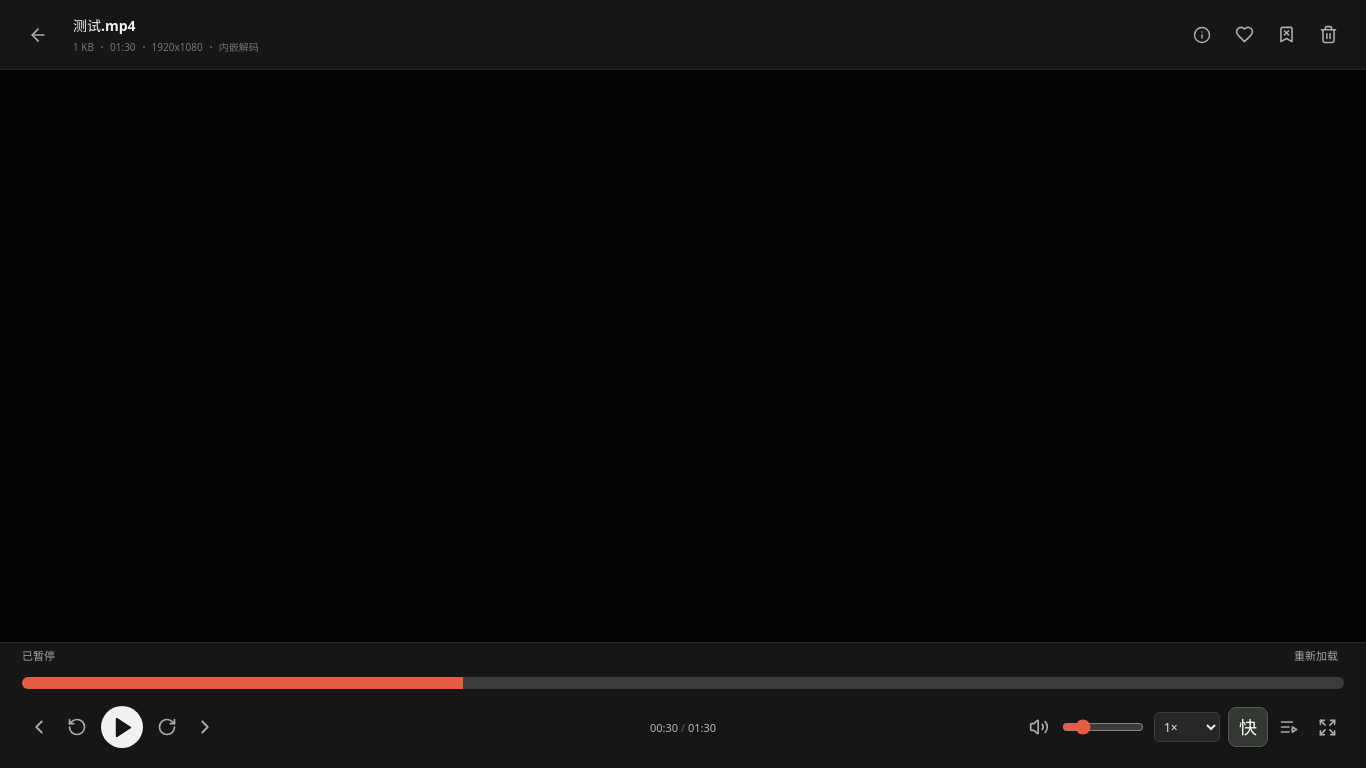
it: original player UI with embedded engine › updates play/pause from confirmation without waiting for the next poll
The width and height of the screenshot is (1366, 768).
Expected: the text "已暂停" is shown, 22,648 -> 55,663
Click the button named "播放" at coordinates (122, 727), box 101,706 -> 143,748
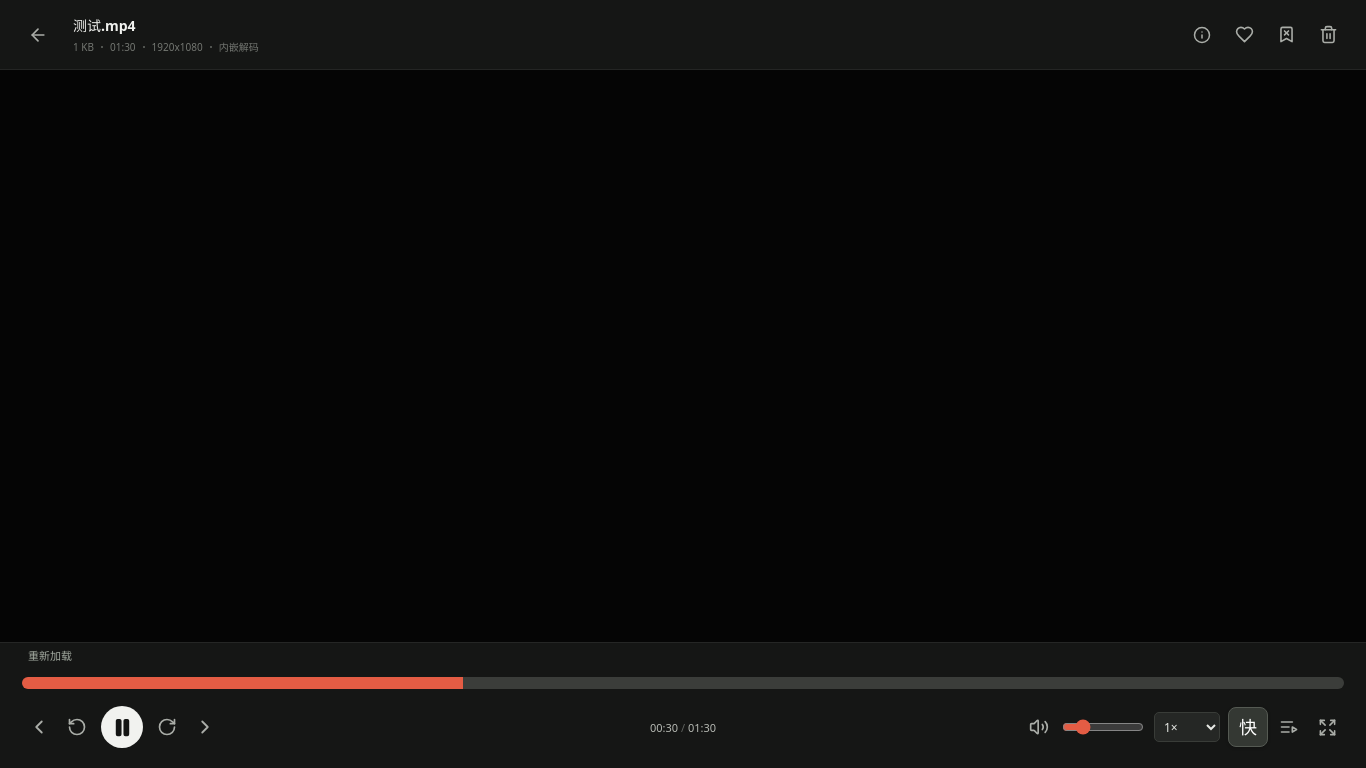
Result: the button named "暂停" is shown
Click the button named "暂停" at coordinates (122, 727), box 101,706 -> 143,748
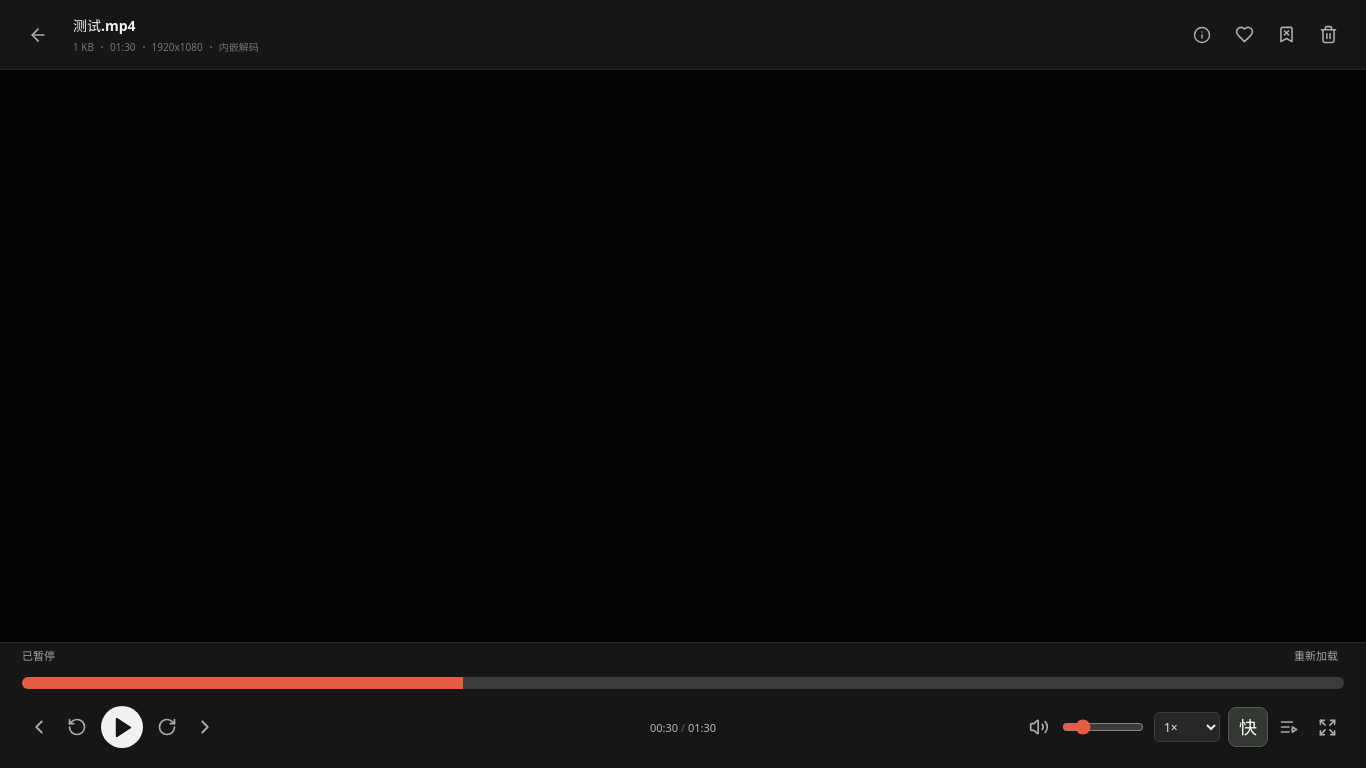
Result: the button named "播放" is shown at 101,706 -> 143,748
